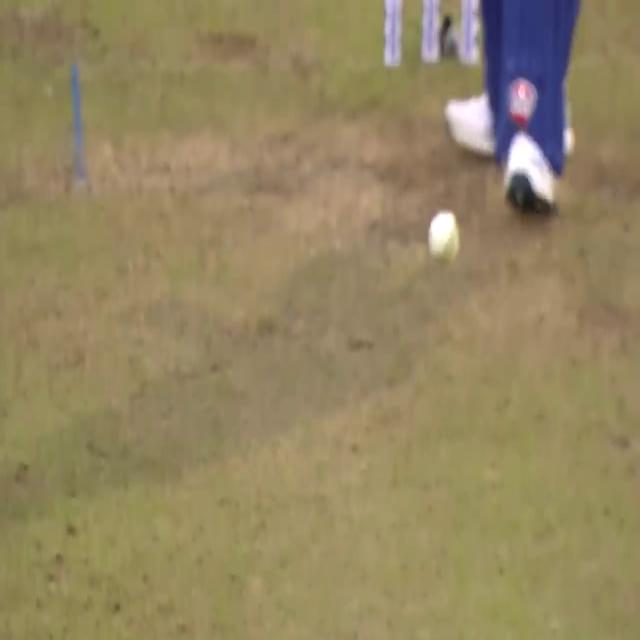ball: (428, 210, 460, 268)
